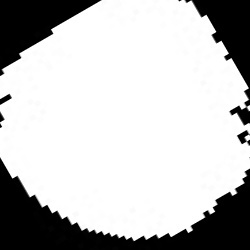spot: (0, 2, 250, 239)
